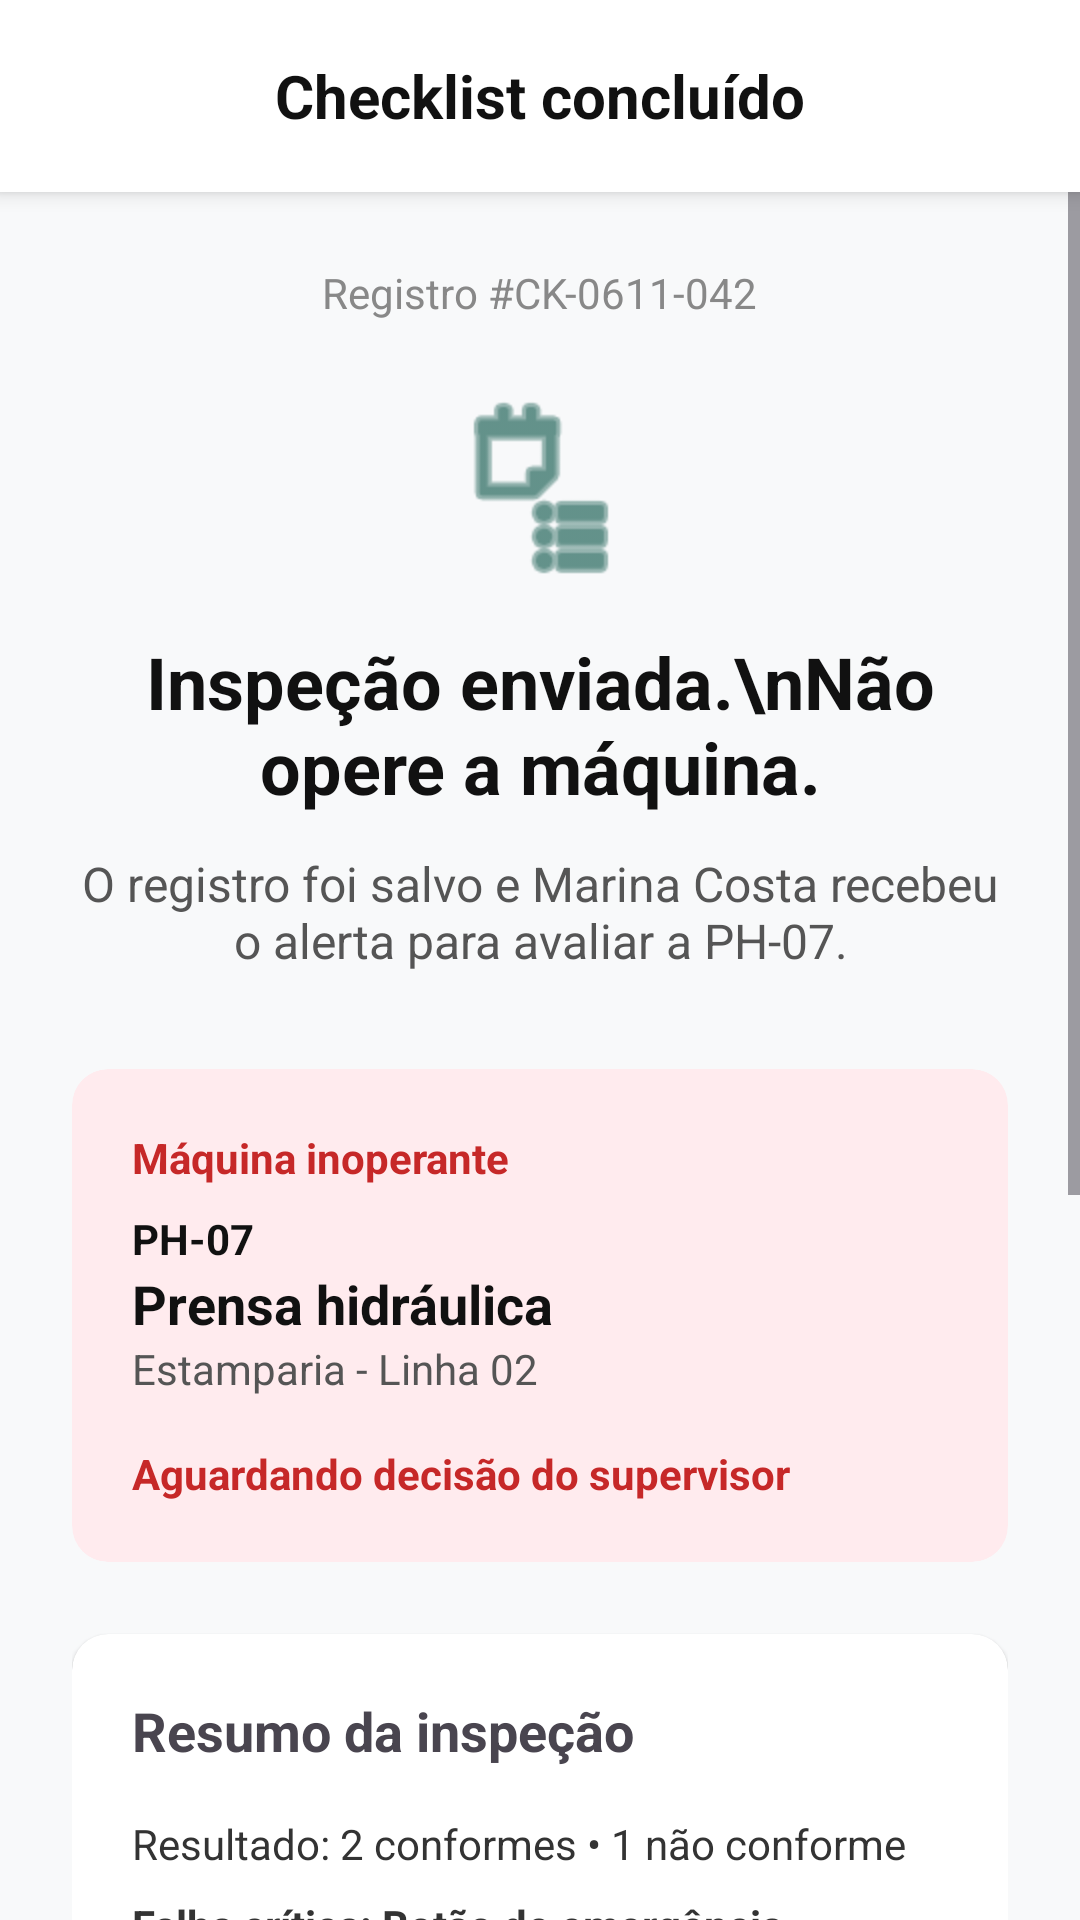

Named icons in this screenshot (1080x1920) and their centers, (x,y):
agenda: (541,487)
